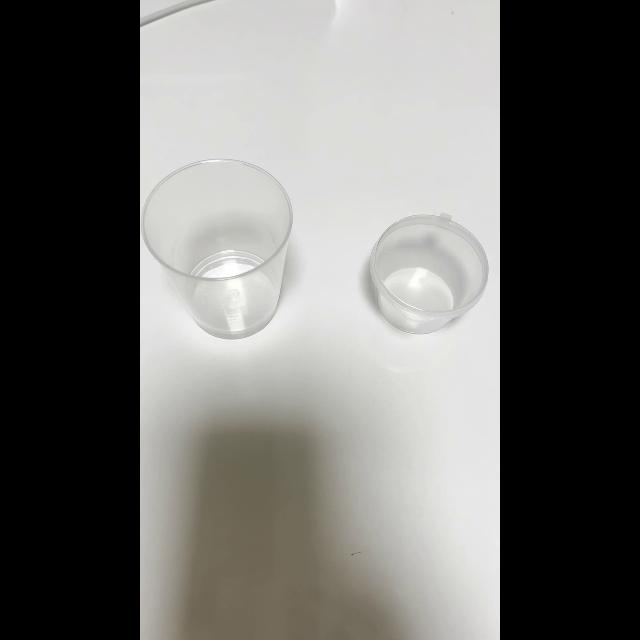clean: (146, 158, 290, 334), (374, 219, 488, 327)
